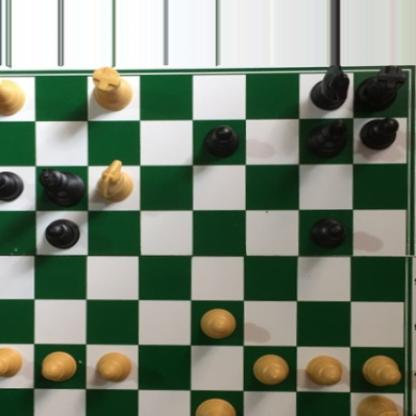black-bishop: (303, 117, 351, 158)
black-king: (36, 165, 84, 206)
black-knight: (309, 65, 351, 114)
black-pawn: (357, 117, 401, 151), (203, 124, 240, 161), (44, 217, 81, 251), (309, 217, 346, 250), (0, 169, 26, 203)
black-rook: (353, 65, 405, 114)
white-king: (189, 395, 237, 416)
white-knight: (94, 155, 134, 205)
white-pawn: (40, 348, 80, 385), (359, 353, 400, 389), (304, 352, 343, 388), (199, 307, 237, 342), (251, 353, 290, 385), (94, 353, 132, 384), (0, 347, 25, 379)
white-queen: (0, 66, 29, 115)
white-rook: (86, 65, 132, 113), (351, 391, 407, 416)
